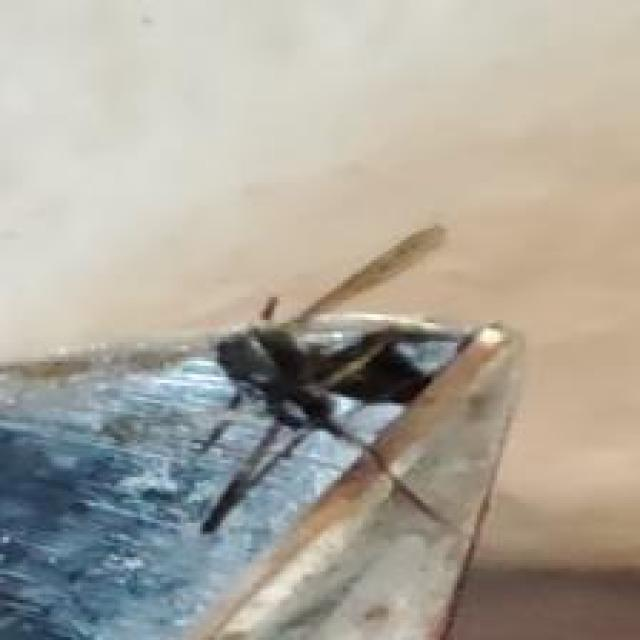Aedes albopictus: (0, 222, 497, 538)
